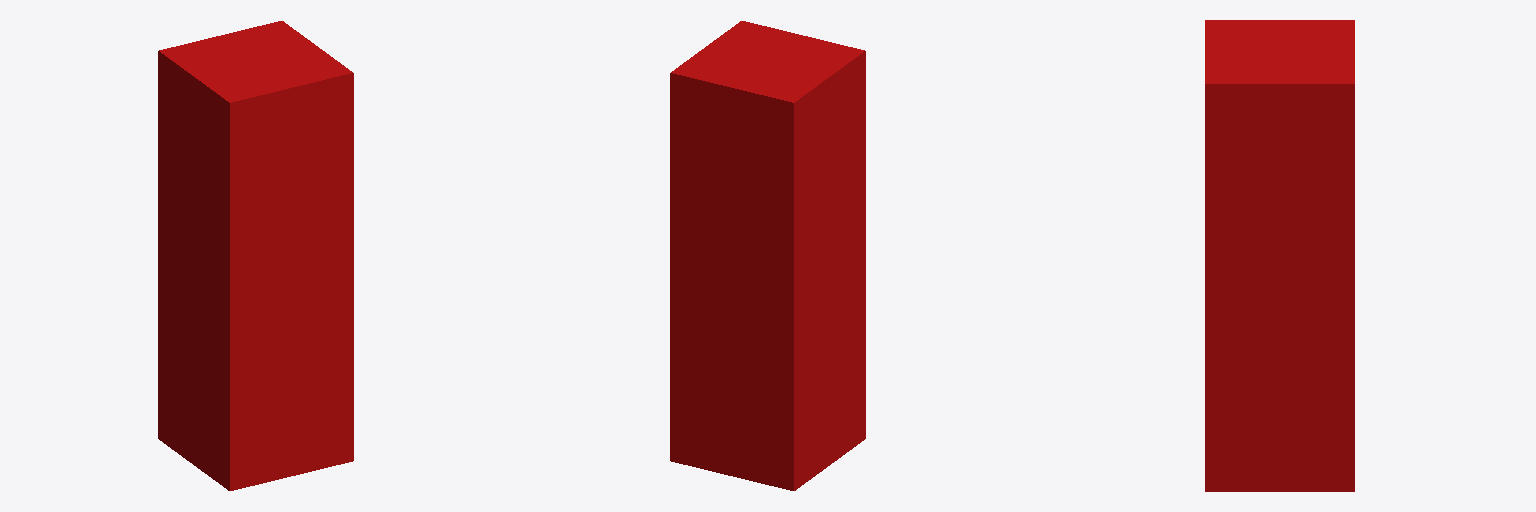
robot.urdf — simple_cuboid:
<?xml version="1.0"?>
<robot name="simple_cuboid">
  <link name="base_link">
    <inertial>
      <origin xyz="0 0 0" rpy="0 0 0" />
      <mass value="0.1" />
      <!-- <inertia ixx="0.000363" ixy="0" ixz="0" iyy="0.000363" iyz="0"
          izz="0.00006" /> -->
      <inertia ixx="0.000360" ixy="0" ixz="0" iyy="0.0000615" iyz="0"
          izz="0.00036" />
    </inertial>
    <visual>
      <origin xyz="0 0 0" rpy="0 0 0" />
      <geometry>
        <box size="0.06 0.06 0.18" />
      </geometry>
      <material name="red">
        <color rgba="0.8 0.1 0.1 0.9" />
      </material>
    </visual>

    <!--
      This places contact spheres on the corners of the visual box and a
      *slightly* smaller inset contact box (centered on the visual origin). This
      accounts for issues in the contact computation providing stable table
      contact *and* supports grasping.

      When the box is in stable contact with the ground plane, the corner
      spheres will provide fixed contact points (simulating distributed contact
      points around the face).  However, for arbitrary grip configuration, the
      slightly inset box will provide contact with a *slight* offset (in this
      case a deviation of 0.0005 m from the visual surface).

      https://github.com/RobotLocomotion/drake/issues/6254 tracks the
      difficulty in supporting face-to-face contact.
     -->
    <collision>
      <geometry>
        <box size="0.059 0.059 0.179" />
      </geometry>
    </collision>

    <collision>
      <origin xyz="-0.03 -0.03 -0.09" rpy="0 0 0"/>
      <geometry>
        <sphere radius="1e-7"/>
      </geometry>
    </collision>
    <collision>
      <origin xyz="-0.03 0.03 -0.09" rpy="0 0 0"/>
      <geometry>
        <sphere radius="1e-7"/>
      </geometry>
    </collision>
    <collision>
      <origin xyz="0.03 0.03 -0.09" rpy="0 0 0"/>
      <geometry>
        <sphere radius="1e-7"/>
      </geometry>
    </collision>
    <collision>
      <origin xyz="0.03 -0.03 -0.09" rpy="0 0 0"/>
      <geometry>
        <sphere radius="1e-7"/>
      </geometry>
    </collision>

    <collision>
      <origin xyz="-0.03 -0.03 0.09" rpy="0 0 0"/>
      <geometry>
        <sphere radius="1e-7"/>
      </geometry>
    </collision>
    <collision>
      <origin xyz="-0.03 0.03 0.09" rpy="0 0 0"/>
      <geometry>
        <sphere radius="1e-7"/>
      </geometry>
    </collision>
    <collision>
      <origin xyz="0.03 0.03 0.09" rpy="0 0 0"/>
      <geometry>
        <sphere radius="1e-7"/>
      </geometry>
    </collision>
    <collision>
      <origin xyz="0.03 -0.03 0.09" rpy="0 0 0"/>
      <geometry>
        <sphere radius="1e-7"/>
      </geometry>
    </collision>

   </link>
</robot>

--- Facts derived from the render (not from the file) ---
The picture shows the robot from 3 angles, left to right: view 1: azimuth 30°, elevation 25°; view 2: azimuth 150°, elevation 25°; view 3: azimuth 270°, elevation 25°; orthographic projection.
Model simple_cuboid with 1 links and 0 joints (none), rooted at base_link, posed every joint at zero.
Visible links, largest first — view 1: base_link; view 2: base_link; view 3: base_link.
Boxes of the visible links, x1=… form: base_link: x1=158, y1=21, x2=353, y2=490; base_link: x1=670, y1=21, x2=865, y2=490; base_link: x1=1205, y1=20, x2=1354, y2=491.
Size in the robot's own frame: 0.06 by 0.06 by 0.18 metres.
Geometry: primitives only (box / cylinder / sphere), no mesh files.